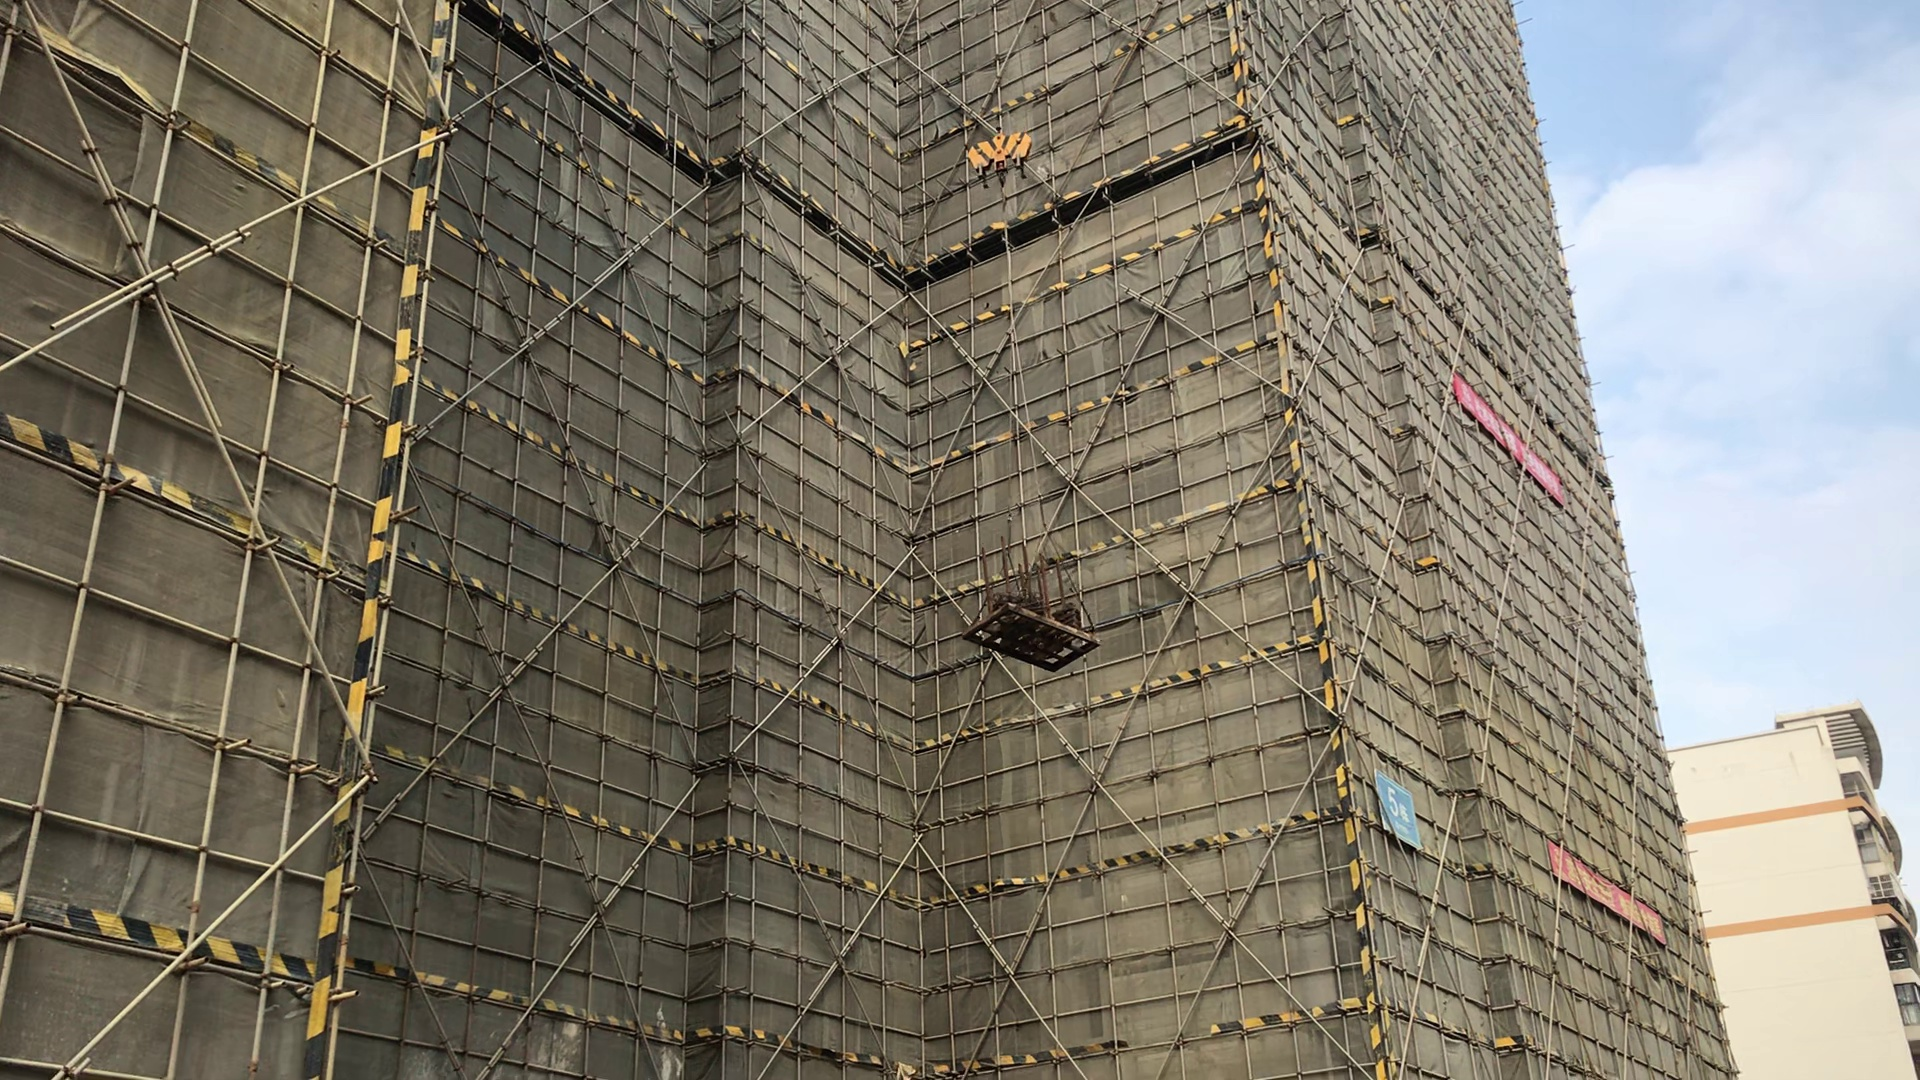hook: (960, 120, 1029, 175)
slogan: (1433, 367, 1592, 520), (1543, 835, 1667, 948), (1362, 752, 1425, 853)
